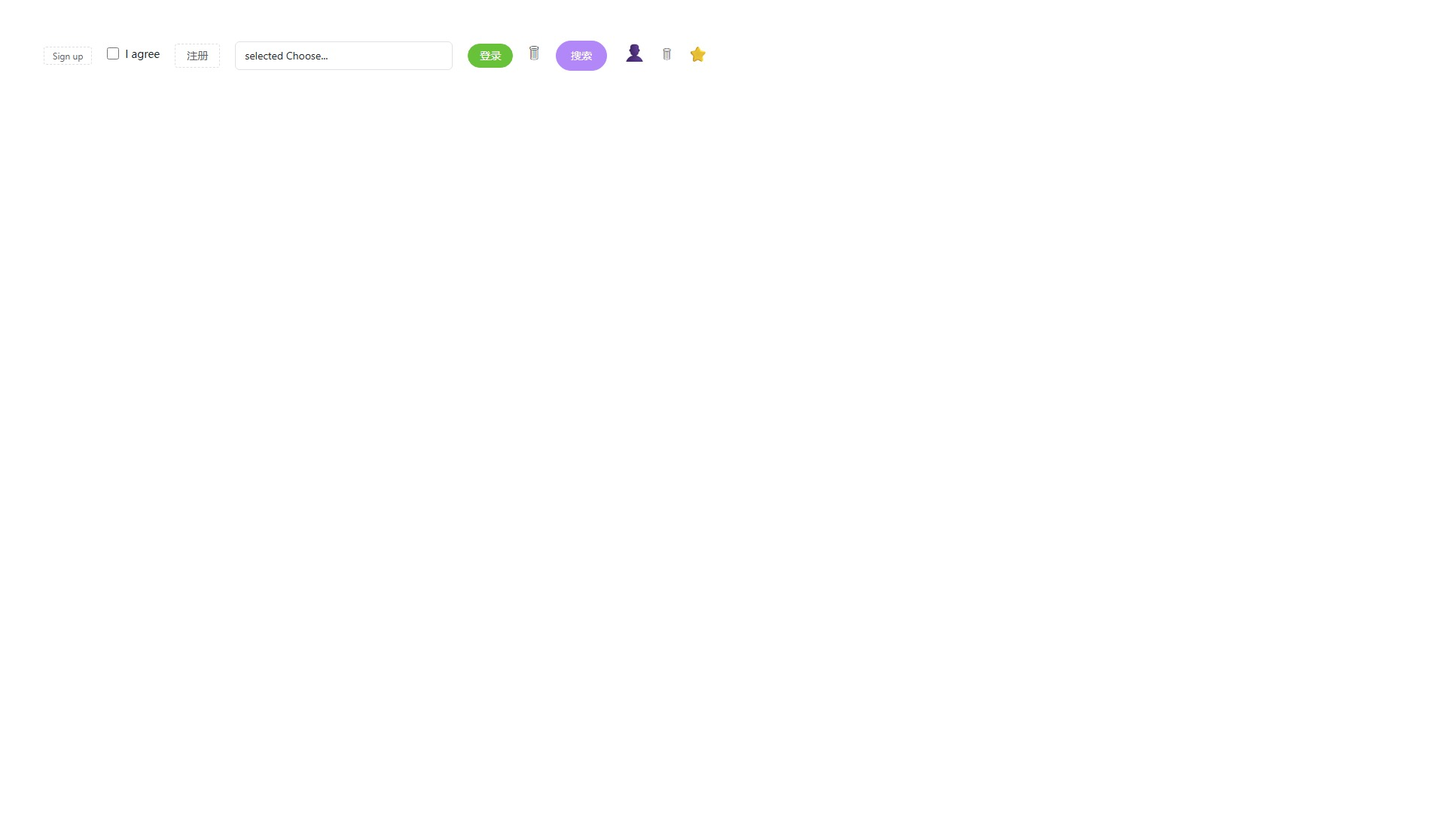button: (556, 41, 607, 71), (175, 44, 220, 68), (468, 44, 513, 68), (44, 47, 92, 65)
checkbox: (107, 47, 119, 59)
icon: (125, 46, 160, 61), (622, 43, 647, 61), (688, 46, 708, 61), (528, 43, 541, 61), (662, 46, 673, 61)
radio: (107, 46, 160, 61)
select: (235, 41, 453, 70)
